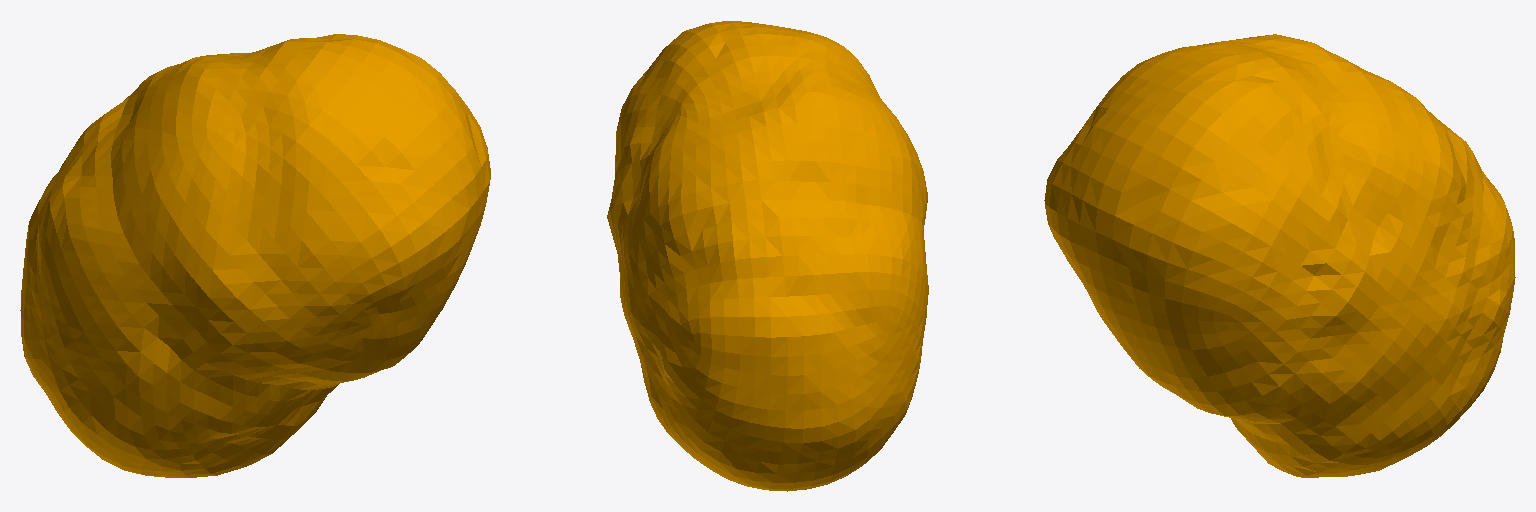
The robot description file, URDF, robot "rock":
<?xml version="1.0" ?>
<robot name="rock">
  <link name="rock">
    <inertial>
      <mass value="0.281"/>
      <origin rpy="0 0 0" xyz="0 0 0"/>
      <inertia ixx="0.000281" ixy="0" ixz="0" iyy="0.000281" iyz="0" izz="0.000281"/>
    </inertial>
    <collision name="rock_collision">
      <origin rpy="0 0 0" xyz="0 0 0"/>
      <geometry>
        <mesh filename="package://rocks/visual/88.dae" scale="1 1 1"/>
      </geometry>
    </collision>
    <visual name="rock_visual">
      <origin rpy="0 0 0" xyz="0 0 0"/>
      <geometry>
        <mesh filename="package://rocks/visual/88.dae" scale="1 1 1"/>
      </geometry>
    </visual>
  </link>
</robot>

--- What the picture shows (computed from the rendered views, not written in the file) ---
Views: 3 orthographic renders of the robot side by side, from view 1: azimuth 30°, elevation 25°; view 2: azimuth 150°, elevation 25°; view 3: azimuth 270°, elevation 25°.
Model rock with 1 links and 0 joints (none), rooted at rock, posed all joints at 0.
Links seen in each view (by area): view 1: rock; view 2: rock; view 3: rock.
Boxes of the visible links, bbox=[...] form: rock: bbox=[20, 34, 490, 477]; rock: bbox=[607, 21, 928, 491]; rock: bbox=[1044, 34, 1515, 477].
Bounding box of the posed robot: 0.0741 × 0.0817 × 0.0851 m (x, y, z).
Meshes: 1 distinct files referenced, 1 mesh visuals loaded (1 Collada DAE).